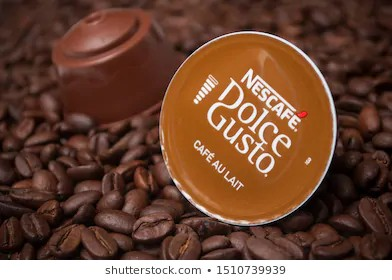nescafe-dolce: (159, 20, 343, 223)
